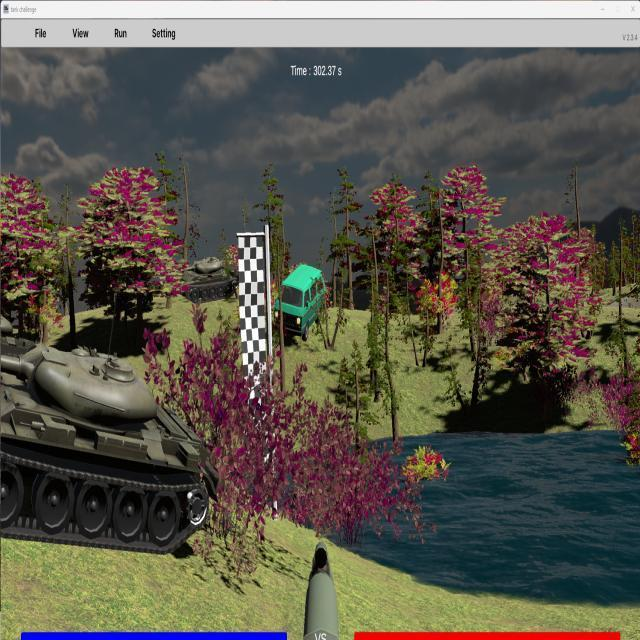Tank: (0, 343, 220, 555), (159, 256, 240, 303), (0, 310, 39, 385)
car: (273, 264, 326, 340)
